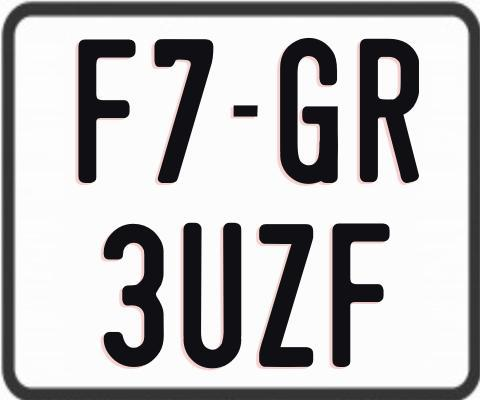3: (102, 221, 163, 370)
7: (152, 36, 216, 180)
F: (331, 222, 391, 369), (76, 37, 137, 181)
G: (277, 37, 339, 187)
R: (357, 37, 418, 186)
U: (181, 223, 239, 370)
Z: (256, 224, 313, 370)
